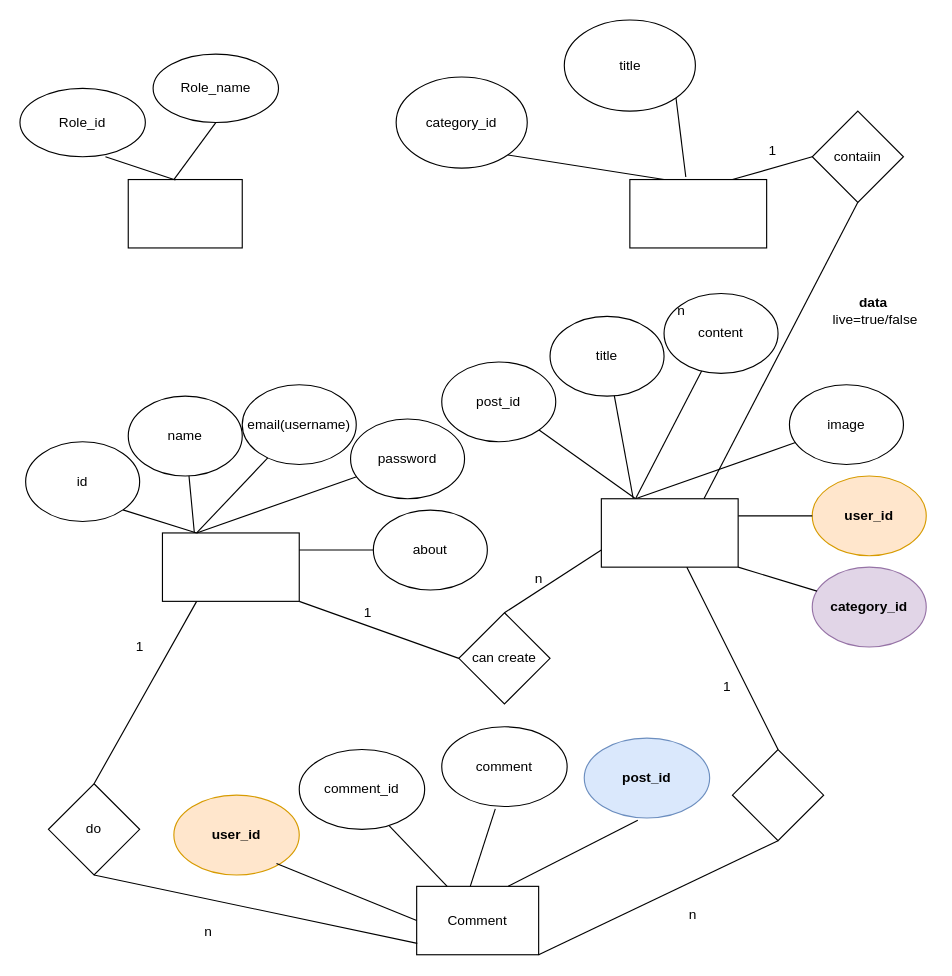
This 952x976 diagram has some shape labels left out. Each missing label, with the centre of its shape:
"category" belongs at (x=698, y=213).
"have" belongs at (x=777, y=794).
"post" belongs at (x=669, y=532).
"Role" belongs at (x=184, y=213).
"User" belongs at (x=230, y=566).
